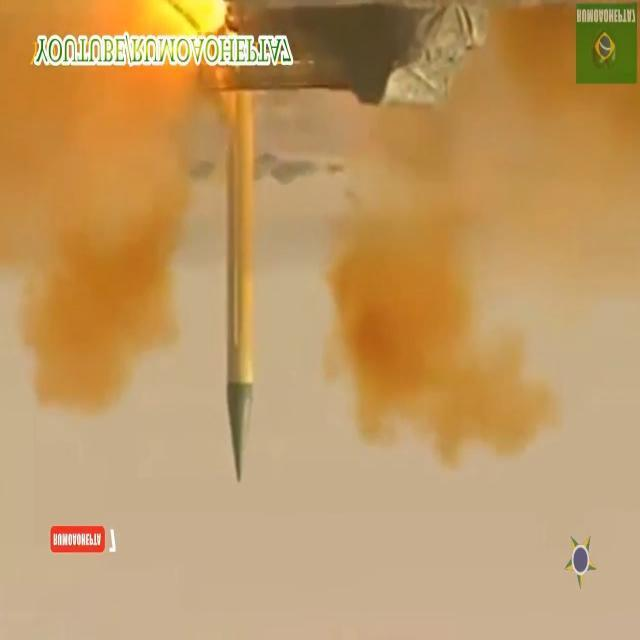missile: (215, 73, 258, 478)
